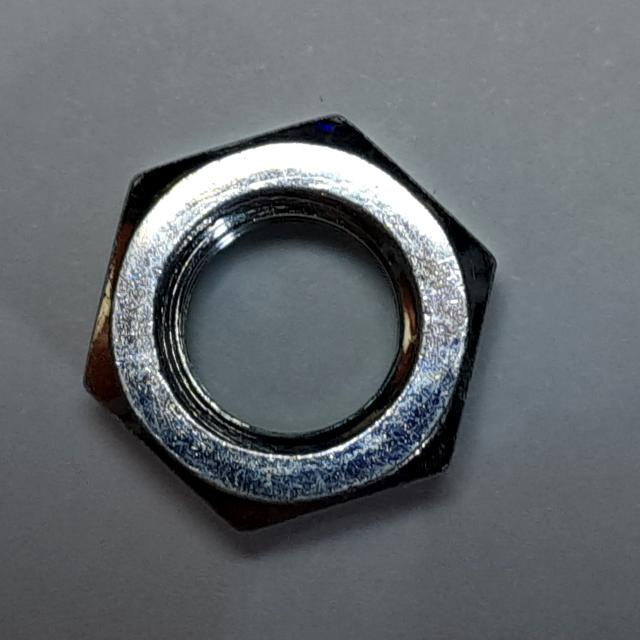Excellent: (64, 98, 510, 548)
